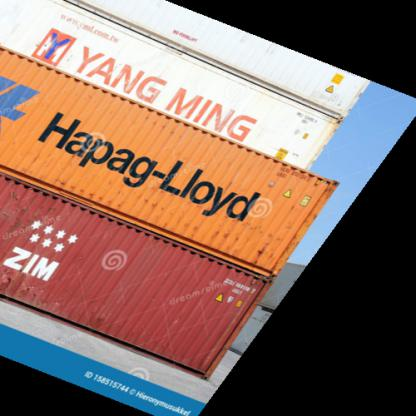Damage: (264, 228, 308, 272)
